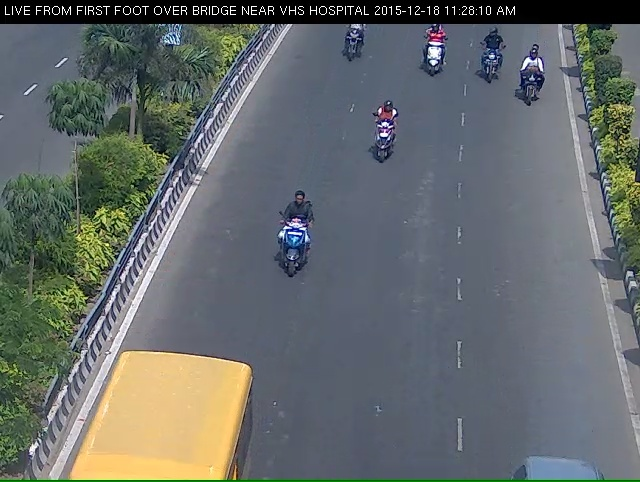Person: (257, 205, 323, 316), (356, 106, 400, 181), (410, 20, 452, 93), (514, 42, 547, 124), (478, 32, 504, 93)
